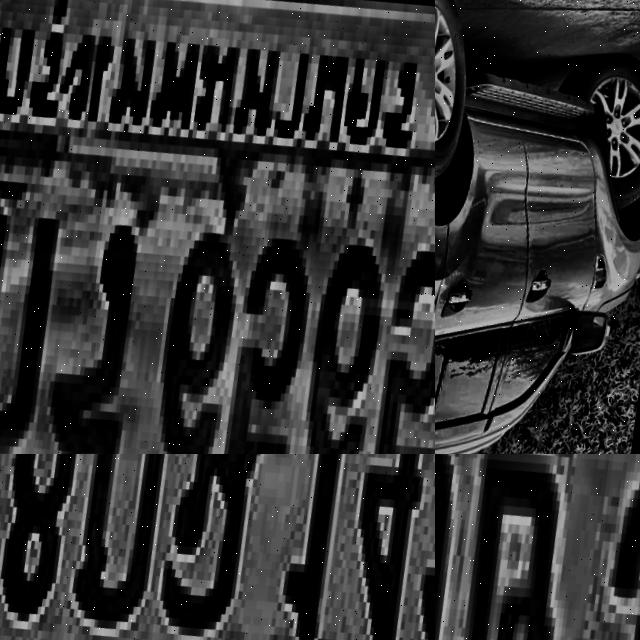license-plate: (0, 0, 435, 454), (0, 454, 435, 640), (435, 454, 640, 640)
